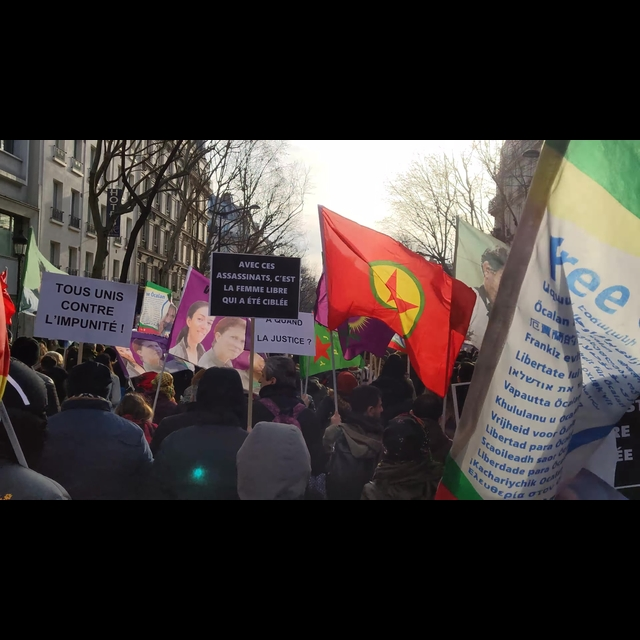PKK: (359, 254, 428, 340)
